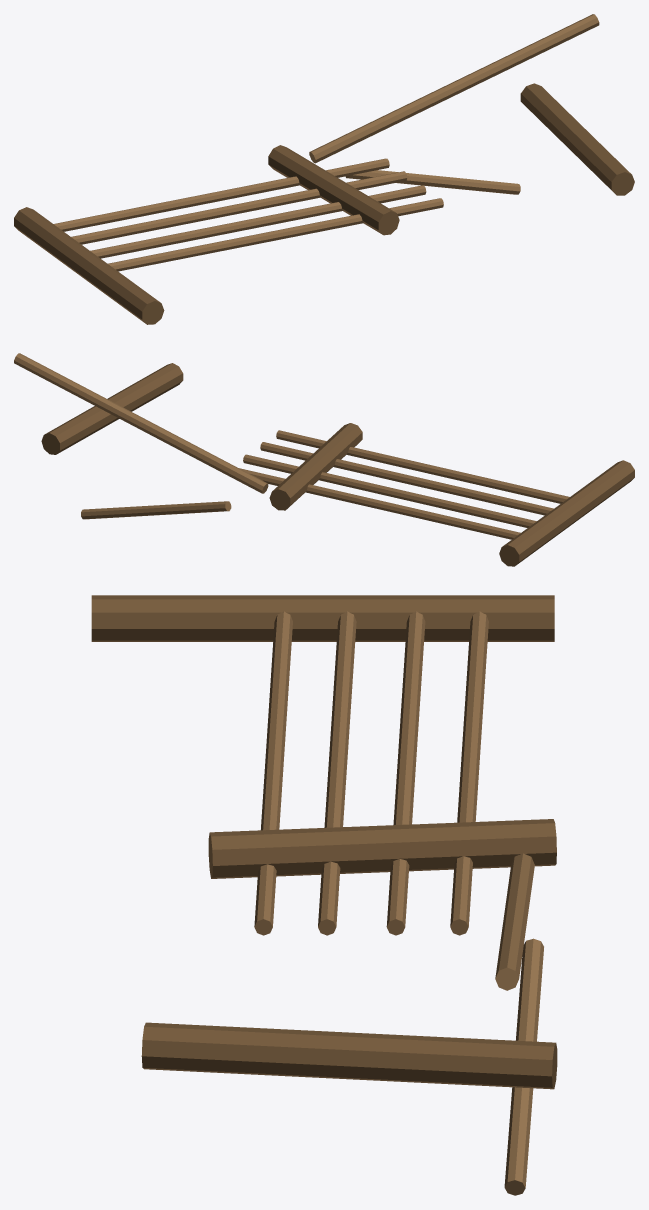
Rendered from wall_wattle_broken.glb.
3 renders of one model, top to bottom at view 1: azimuth 30°, elevation 25°; view 2: azimuth 150°, elevation 25°; view 3: azimuth 270°, elevation 25°, orthographic. The views are drawn at different scales.
Parts seen in each view (by area): view 1: world; view 2: world; view 3: world.
Part boxes in pixels (x1,y1,x2,y2): world: (14,14,634,324); world: (14,353,634,566); world: (91,595,557,1195).
Size of the model in its own units: 4.5 by 1.23 by 1.76.
